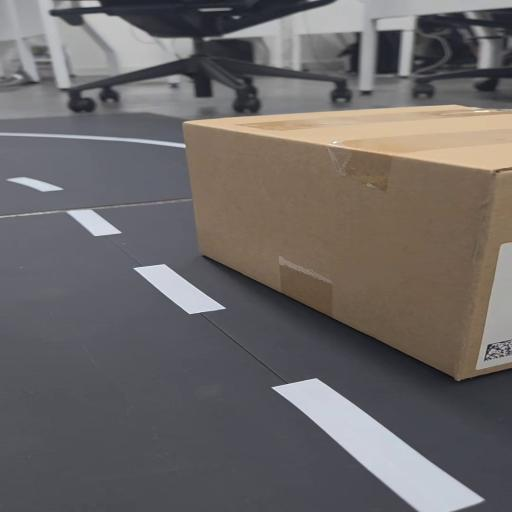Box: (181, 101, 512, 386)
